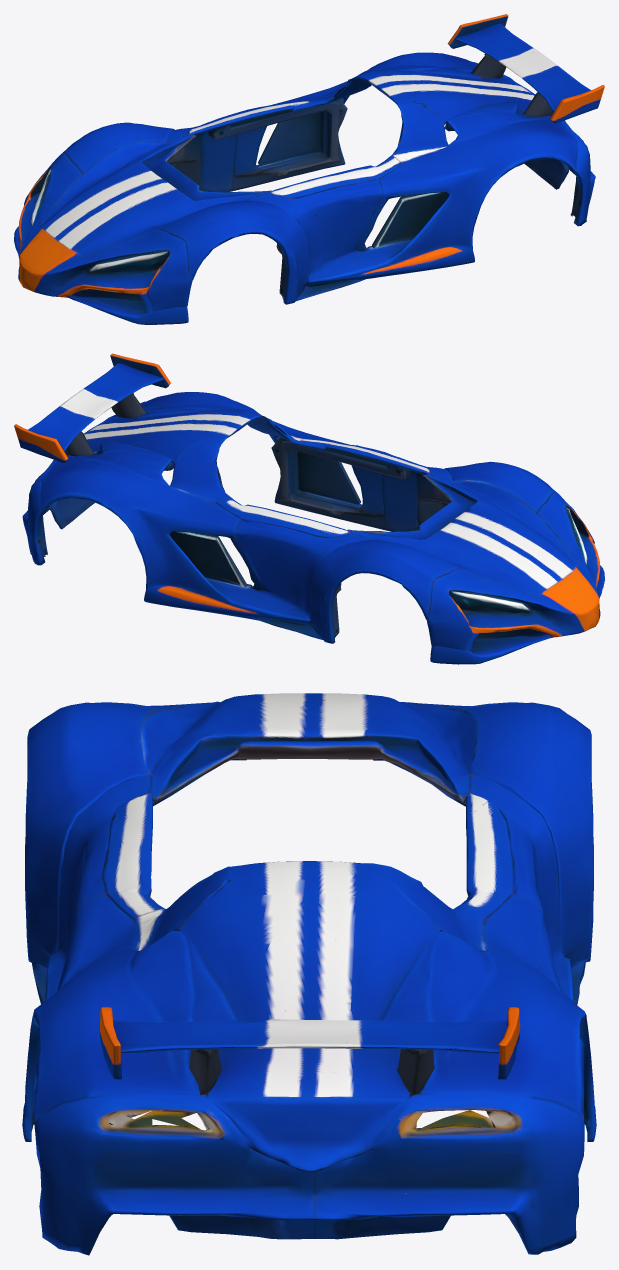
The model's file is comet.glb.
The picture shows the model from 3 angles, top to bottom: view 1: azimuth 30°, elevation 25°; view 2: azimuth 150°, elevation 25°; view 3: azimuth 270°, elevation 25°; orthographic projection. The views are drawn at different scales.
Visible parts, largest first — view 1: geometry_0; view 2: geometry_0; view 3: geometry_0.
Boxes of the visible parts, left/top/right/bottom form: geometry_0: left=14, top=14, right=604, bottom=324; geometry_0: left=14, top=353, right=604, bottom=664; geometry_0: left=22, top=693, right=596, bottom=1255.
Size of the model in its own units: 0.9526 by 0.2212 by 0.4448.
1 material, 1 textured.
